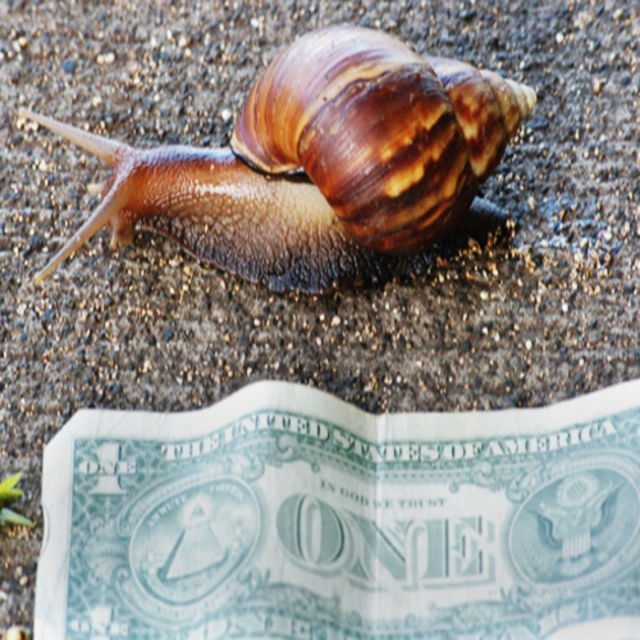Snail: (15, 15, 540, 303)
